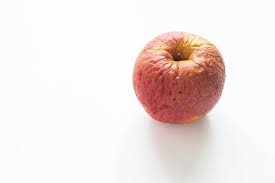damaged_apple: (132, 32, 230, 126)
